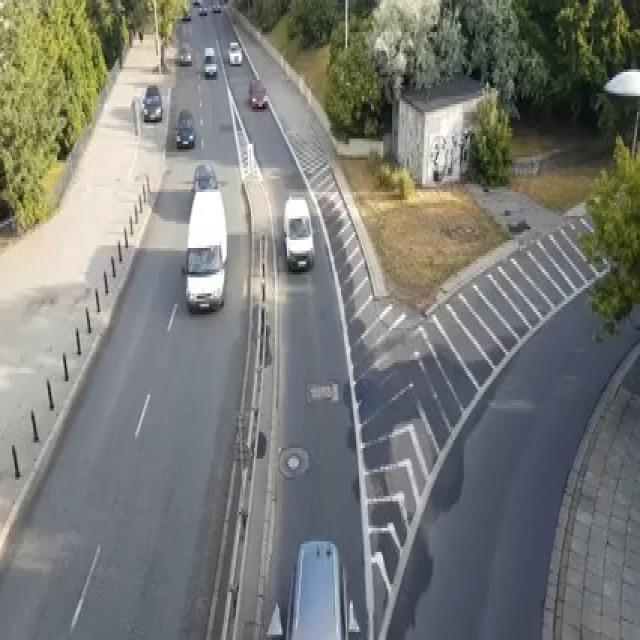bus: (264, 536, 360, 637), (182, 187, 227, 312)
car: (282, 195, 314, 272), (174, 106, 196, 146), (141, 82, 162, 122), (192, 160, 218, 192), (248, 77, 267, 107), (203, 46, 216, 78), (227, 40, 242, 64), (179, 43, 191, 64), (198, 5, 208, 16), (212, 0, 221, 11), (182, 8, 191, 19), (192, 0, 199, 5)
